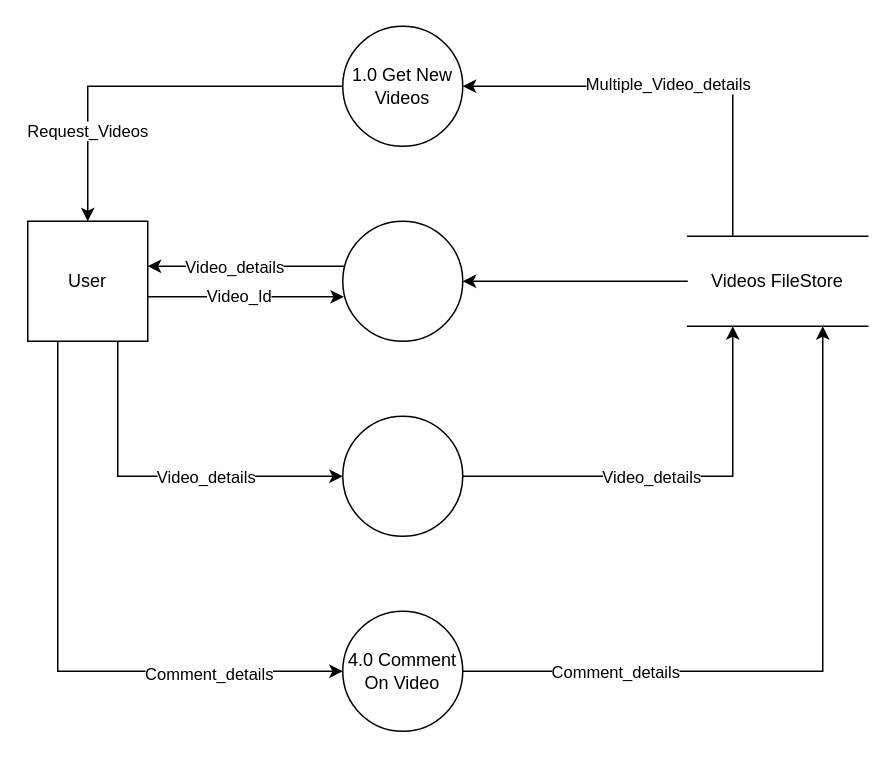
Some shapes in this 894 by 758 pixel diagram are drawn without their labels. Here are the shapes that lost their labels. From the top down, the centre of each, then its label:
At (402,280): "2.0 Load Video".
At (402,475): "3.0 Upload Video".
